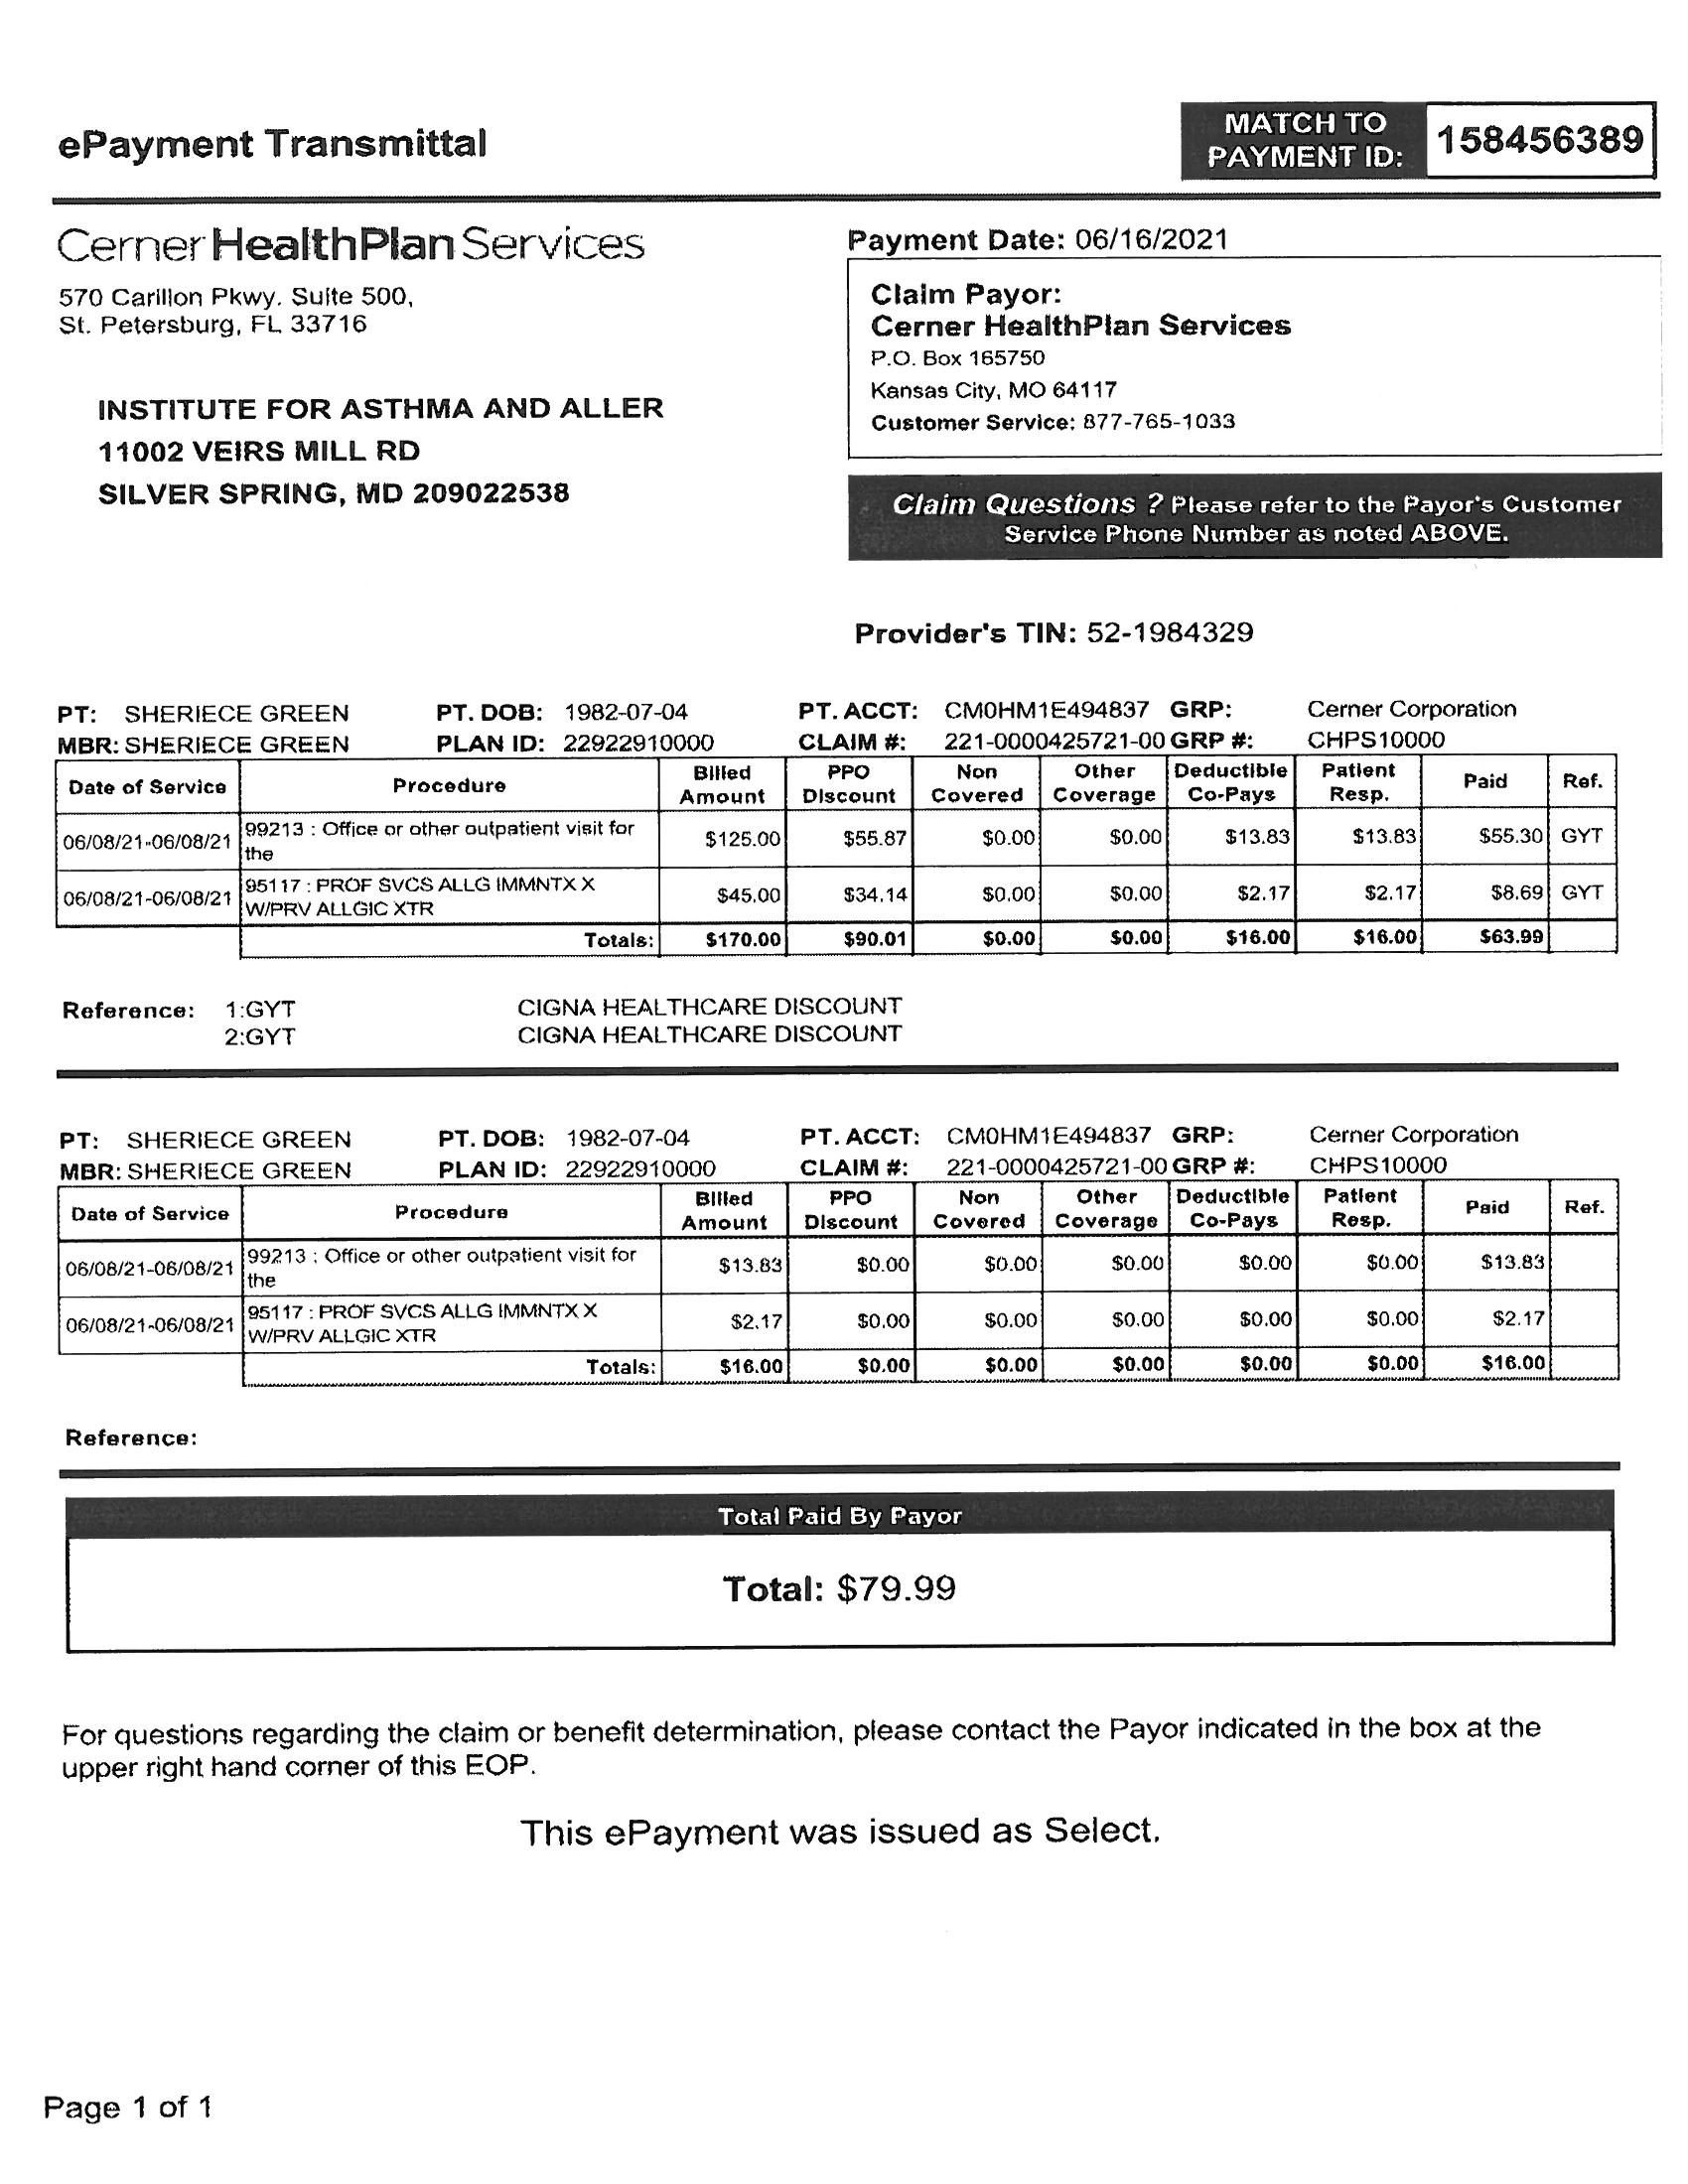data: (839, 248, 1670, 468)
table: (57, 1106, 1622, 1408), (44, 682, 1615, 970)
